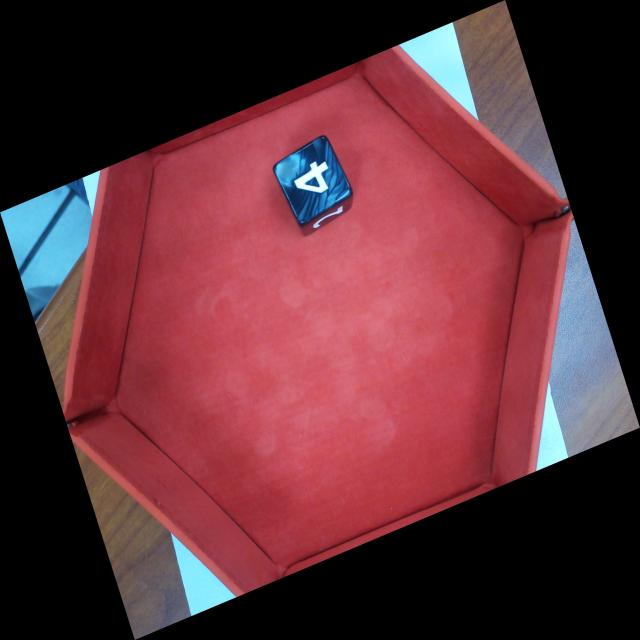dice: (275, 135, 352, 221)
